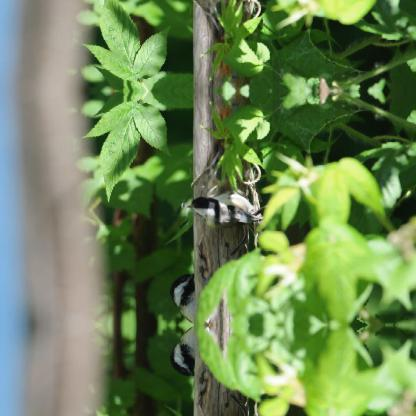Bird: (178, 184, 262, 232)
